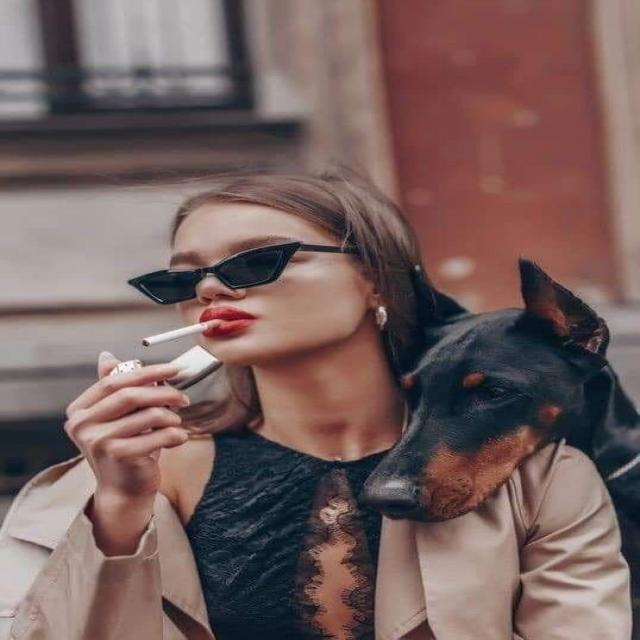cigarette: (112, 316, 252, 353)
